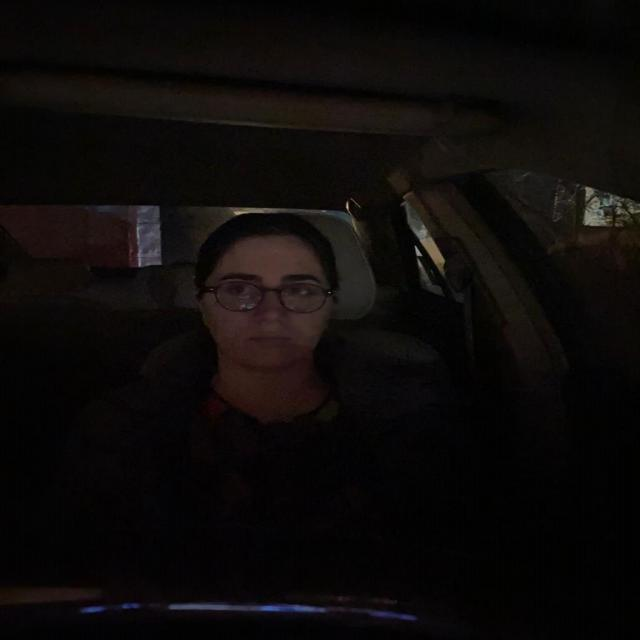person: (200, 222, 338, 366)
